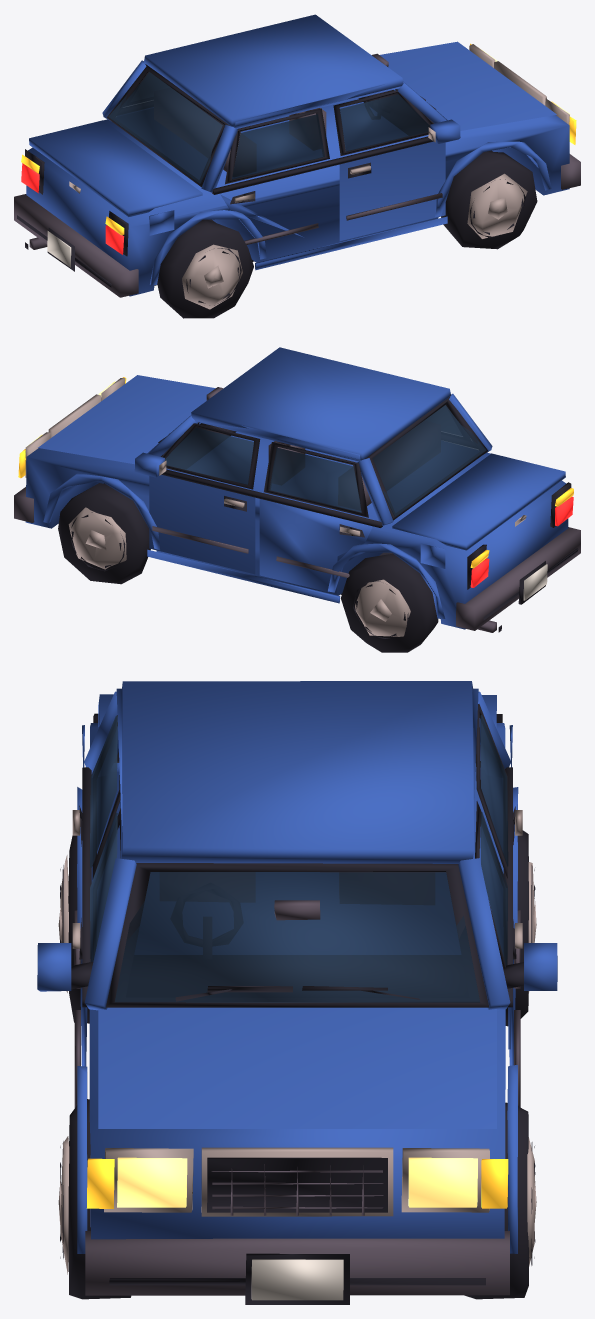
File: veh.sedan-blue.lod2.glb
The picture shows the model from 3 angles, top to bottom: view 1: azimuth 30°, elevation 25°; view 2: azimuth 150°, elevation 25°; view 3: azimuth 270°, elevation 25°; orthographic projection. The views are drawn at different scales.
Visible parts, largest first — view 1: body, doorL, wheelRL, wheelFL, doorRearL, lightsBrake; view 2: body, doorR, doorRearR, wheelRR, wheelFR, lightsBrake; view 3: body, lightsFront, doorR, doorL, doorRearR, wheelFR, wheelFL, doorRearL, wheelRR, wheelRL.
Boxes of the visible parts, x1,y1,x2,y2 form: body: [14, 14, 580, 297]; doorL: [333, 90, 460, 240]; wheelRL: [157, 219, 253, 318]; wheelFL: [441, 151, 537, 249]; doorRearL: [220, 108, 329, 244]; lightsBrake: [21, 154, 124, 254]; body: [14, 347, 580, 632]; doorR: [134, 423, 260, 574]; doorRearR: [259, 442, 372, 594]; wheelRR: [340, 553, 438, 652]; wheelFR: [58, 483, 150, 584]; lightsBrake: [470, 488, 573, 587]; body: [77, 681, 518, 1304]; lightsFront: [86, 1157, 508, 1208]; doorR: [475, 801, 557, 1107]; doorL: [37, 808, 120, 1107]; doorRearR: [476, 704, 522, 1049]; wheelFR: [464, 1102, 536, 1299]; wheelFL: [58, 1099, 131, 1299]; doorRearL: [72, 715, 120, 988]; wheelRR: [505, 830, 536, 1026]; wheelRL: [58, 835, 89, 1023].
Bounding box in the file's own units: 4.54 × 1.68 × 2.14.
